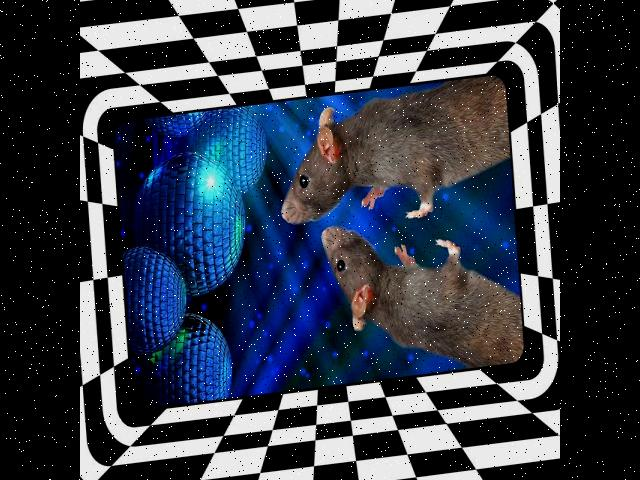Tikus: (275, 71, 506, 231), (319, 236, 523, 358)
